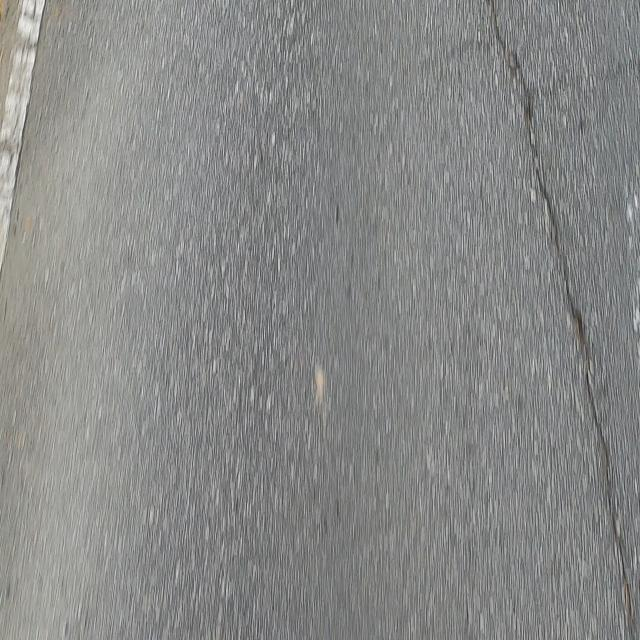Retak-Memanjang: (488, 0, 635, 633)
